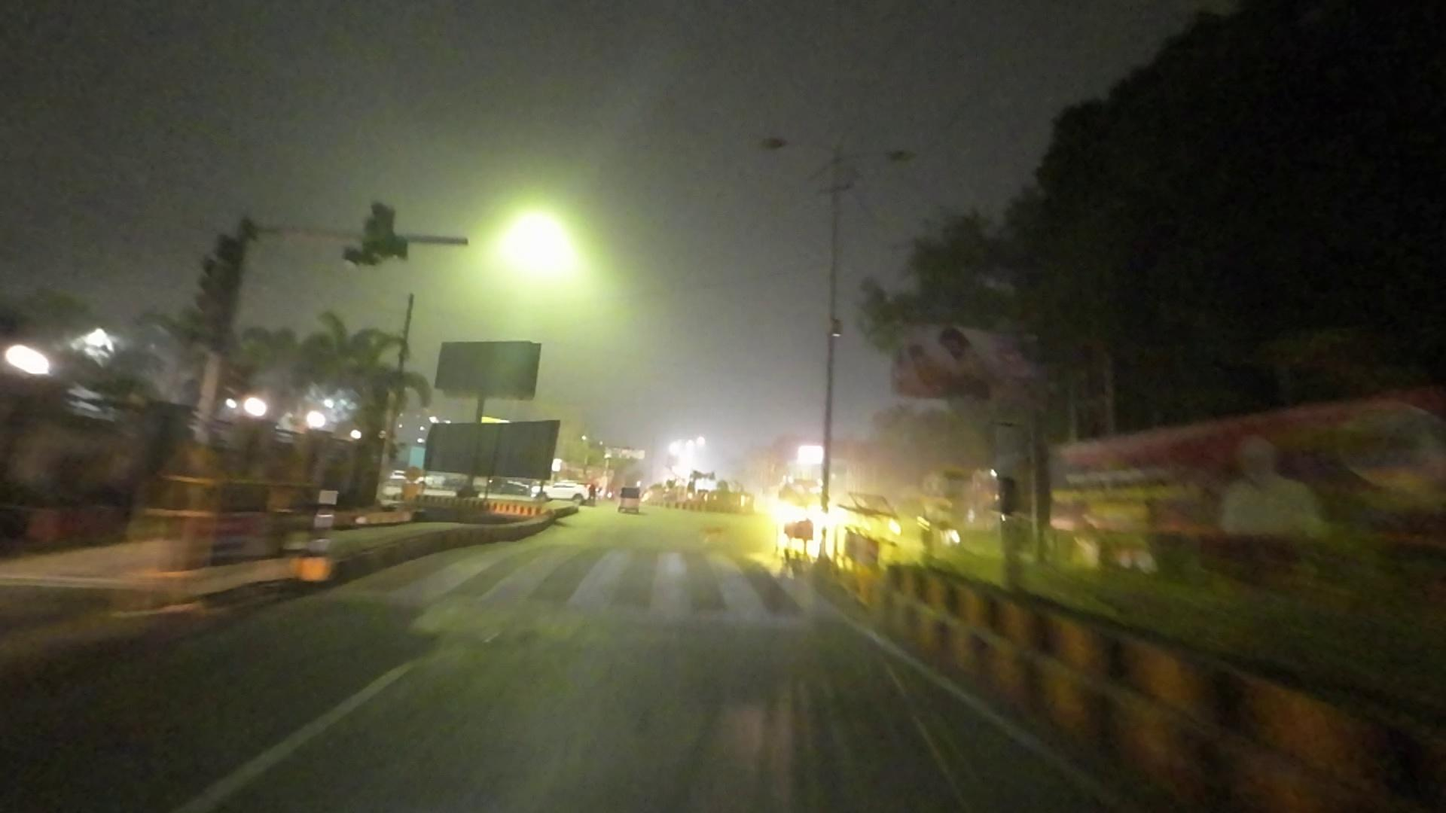streetlight: (757, 133, 834, 155), (850, 145, 921, 165)
